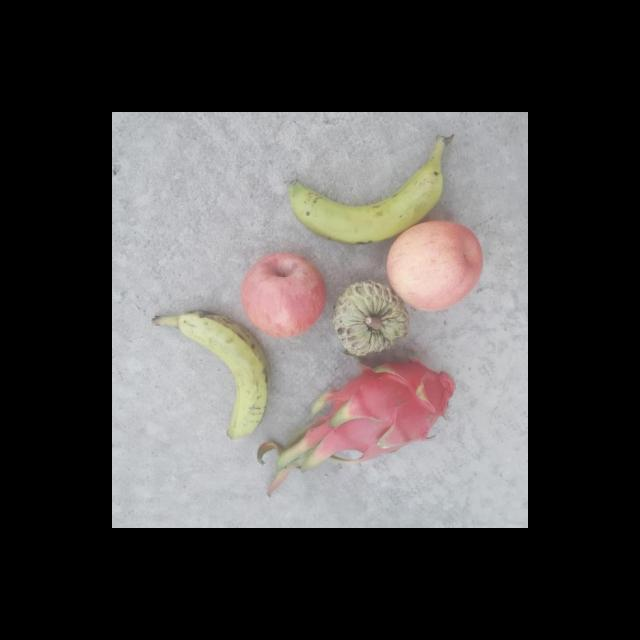Sakya fruit: (327, 282, 410, 358)
apple: (388, 220, 489, 314), (240, 250, 325, 338)
banana: (147, 308, 270, 442), (284, 156, 446, 244)
pitaya: (327, 357, 455, 459)
